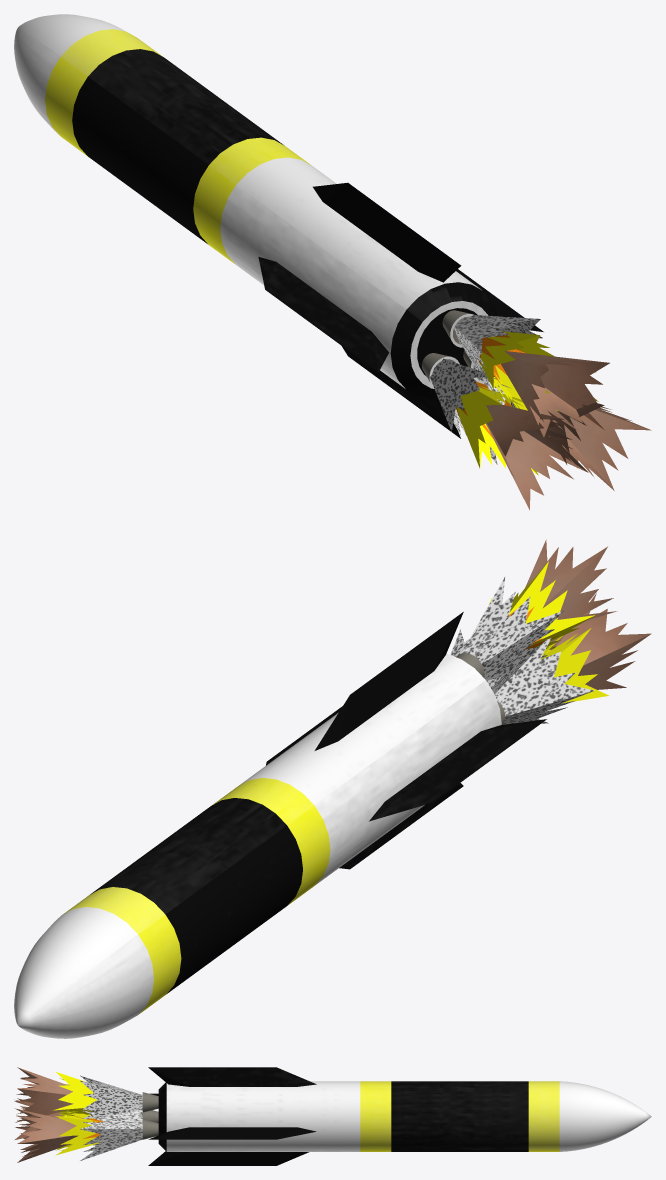
File: missile0.glb
3 renders of one model, top to bottom at view 1: azimuth 30°, elevation 25°; view 2: azimuth 150°, elevation 25°; view 3: azimuth 270°, elevation 25°, orthographic. The views are drawn at different scales.
Parts seen in each view (by area): view 1: missile2; view 2: missile2; view 3: missile2.
Part boxes in pixels (x1,y1,x2,y2): missile2: (14,14,651,510); missile2: (14,539,651,1038); missile2: (14,1067,651,1165).
Size of the model in its own units: 11.15 by 11.15 by 65.37.
9 materials, 6 textured.
